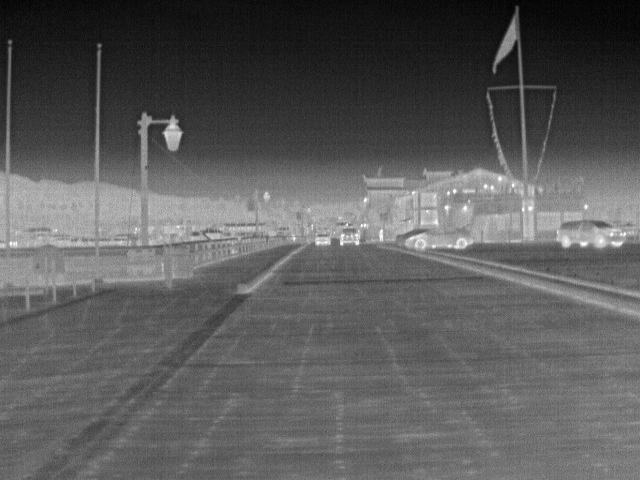car: (557, 218, 629, 250), (406, 229, 476, 249), (394, 227, 427, 245), (341, 227, 362, 248), (315, 230, 334, 248)
person: (378, 227, 386, 244)
